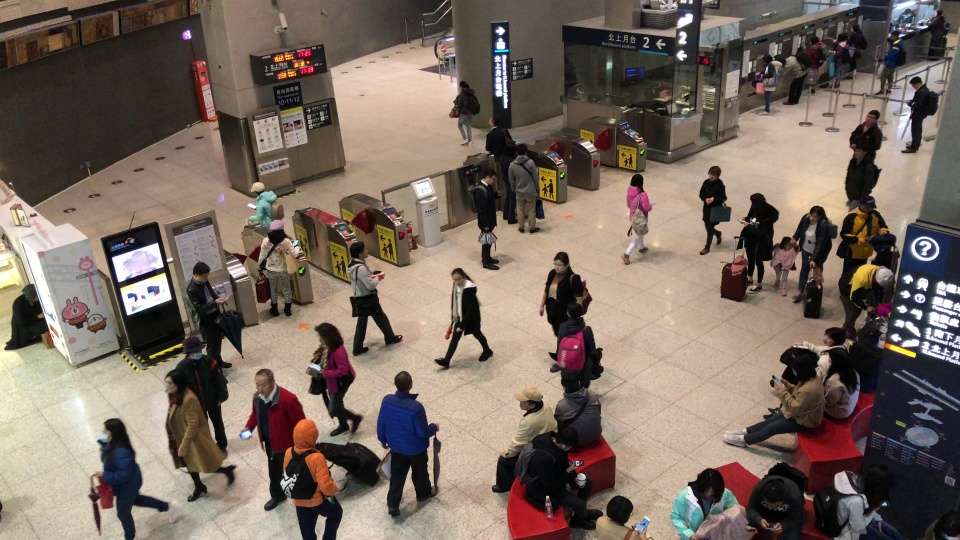person_head: (862, 463, 893, 501), (605, 494, 633, 526), (699, 468, 725, 499), (294, 418, 319, 449), (100, 417, 126, 444), (762, 480, 784, 509), (517, 386, 542, 411), (791, 355, 817, 379), (254, 368, 275, 396), (164, 369, 187, 394), (182, 336, 205, 360), (314, 322, 338, 345), (556, 427, 578, 452), (828, 347, 850, 371), (822, 327, 846, 346), (393, 370, 413, 392), (559, 373, 581, 393), (875, 266, 895, 288), (192, 261, 210, 282), (348, 241, 369, 259), (552, 251, 570, 272), (21, 283, 39, 302), (450, 267, 466, 288), (269, 220, 285, 240), (566, 302, 583, 319), (808, 205, 824, 223), (749, 193, 766, 209), (860, 196, 877, 212), (864, 108, 880, 124), (629, 172, 644, 188), (482, 168, 496, 185), (853, 143, 867, 160), (250, 182, 266, 196), (707, 165, 721, 180), (488, 113, 502, 127), (780, 235, 793, 250), (908, 75, 922, 88), (504, 143, 516, 157), (516, 143, 528, 156), (458, 80, 470, 91), (762, 53, 773, 64), (809, 35, 820, 45), (890, 30, 900, 40), (851, 23, 860, 33), (778, 56, 786, 66), (934, 8, 942, 17), (838, 33, 845, 42)
person_vbox: (95, 417, 181, 540), (239, 368, 308, 511), (163, 368, 237, 501), (720, 355, 825, 447), (375, 370, 439, 517), (513, 427, 603, 531), (813, 461, 909, 540), (282, 417, 343, 540), (760, 346, 861, 420), (490, 386, 558, 493), (174, 336, 230, 459), (306, 322, 364, 438), (345, 241, 402, 357), (433, 267, 494, 367), (835, 195, 890, 299), (538, 251, 584, 374), (184, 261, 233, 369), (745, 461, 810, 539), (669, 468, 739, 540), (735, 192, 779, 296), (791, 205, 838, 302), (838, 263, 895, 342), (256, 220, 300, 319), (553, 374, 603, 450), (556, 303, 597, 394), (467, 167, 502, 272), (845, 109, 883, 205), (789, 326, 848, 382), (619, 173, 653, 265), (900, 76, 939, 155), (507, 142, 540, 233), (3, 283, 47, 351), (698, 165, 728, 257), (595, 494, 653, 540), (844, 144, 880, 210), (872, 30, 906, 97), (776, 52, 814, 105), (452, 80, 481, 146), (770, 235, 799, 298), (755, 53, 783, 118), (247, 181, 284, 227), (802, 36, 828, 96), (828, 33, 855, 90), (500, 142, 518, 225), (843, 21, 867, 80), (485, 113, 513, 160), (926, 8, 952, 38), (942, 515, 959, 540)
